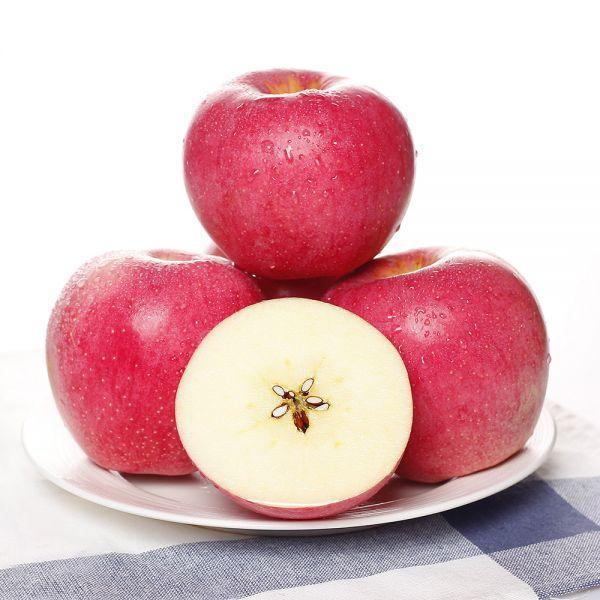apple: (322, 247, 552, 487), (40, 260, 269, 489), (179, 70, 416, 285)
